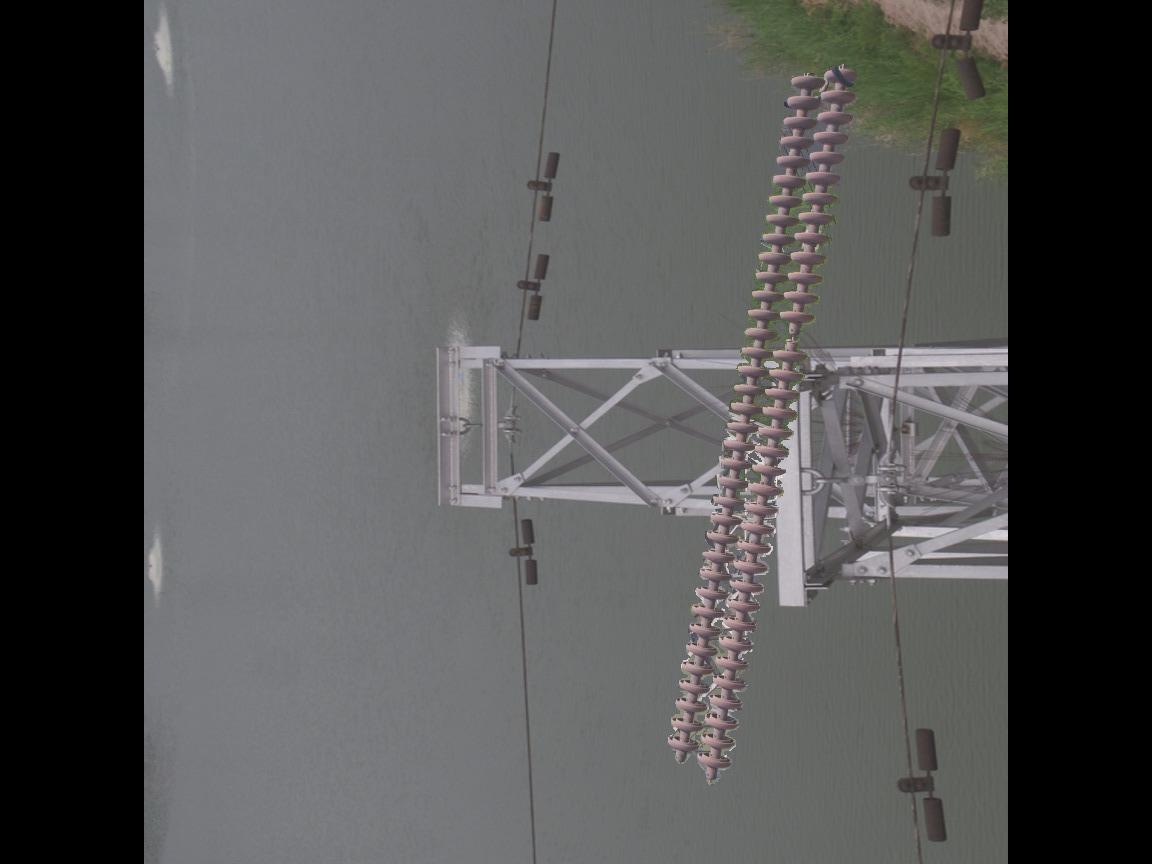insulator: (665, 56, 869, 787)
insulator_stringdrop: (769, 307, 818, 365)
